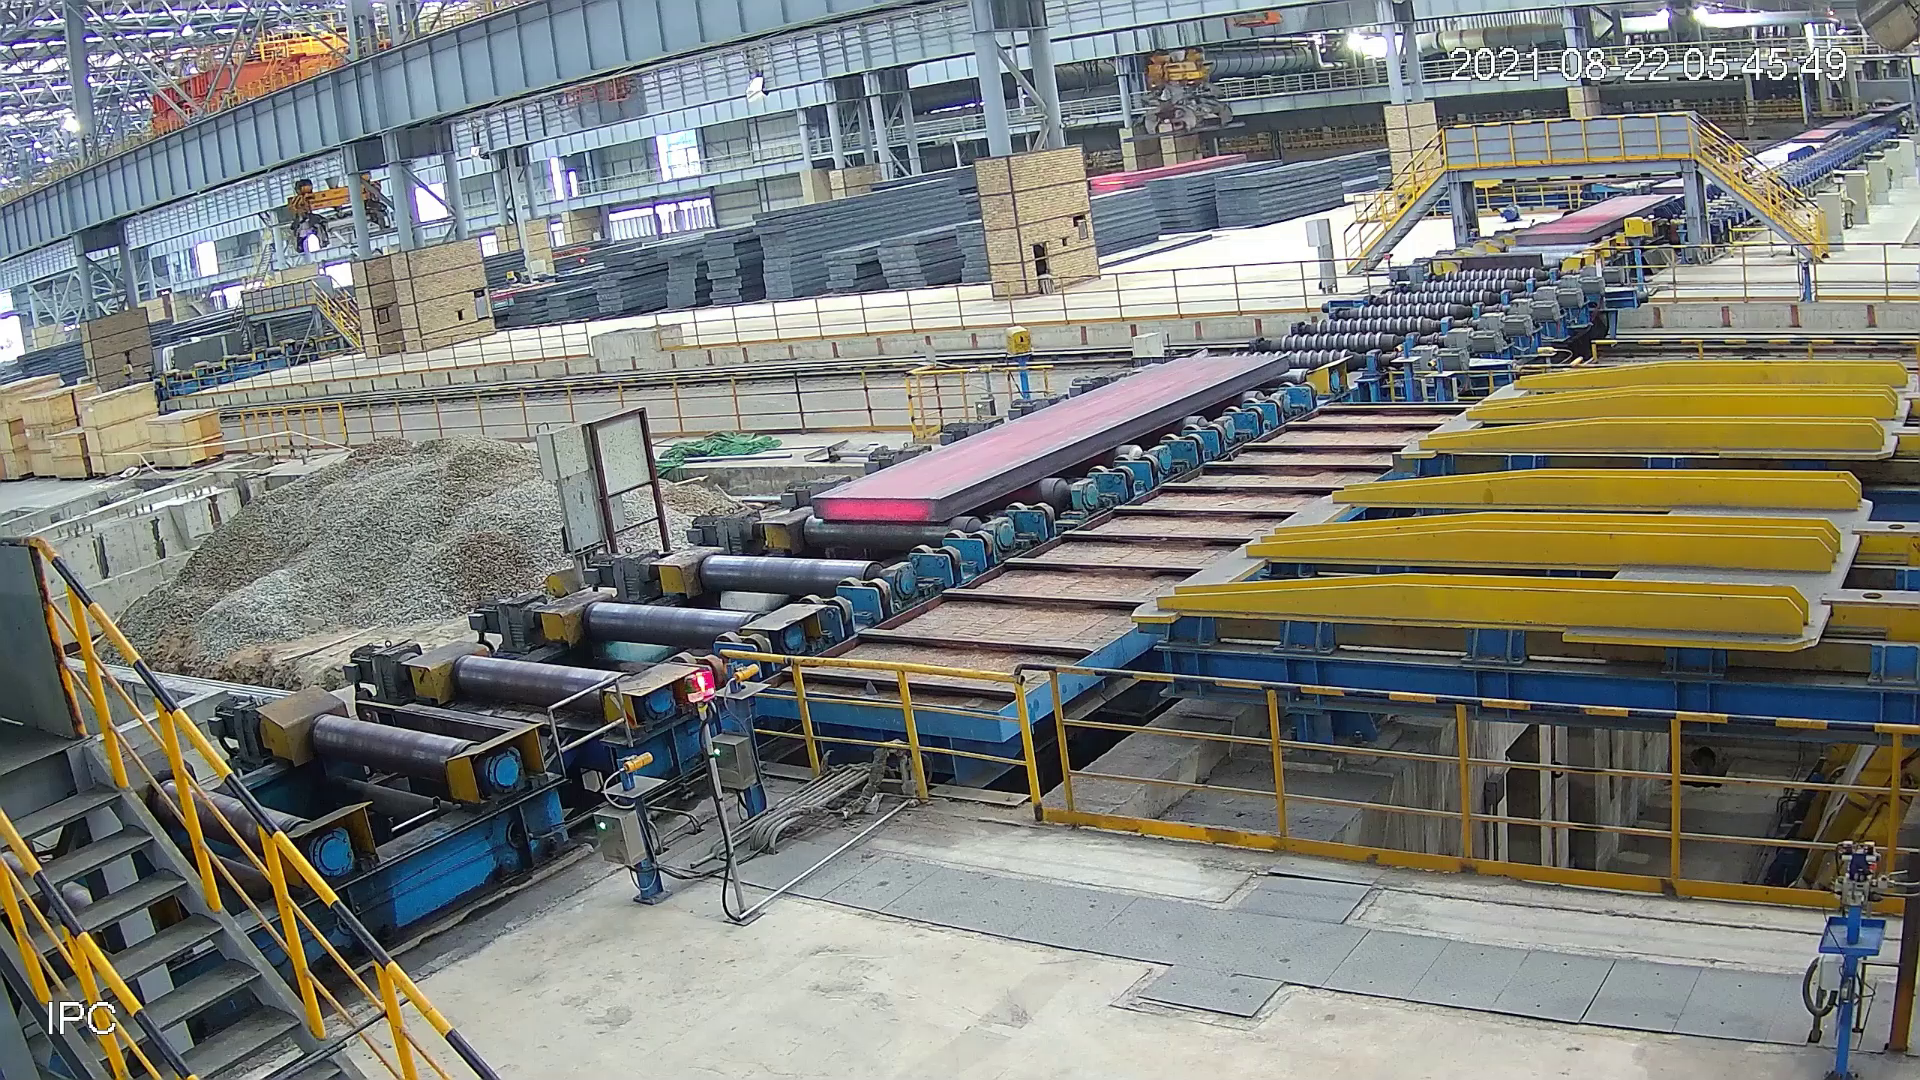slab: (795, 343, 1298, 527), (1516, 189, 1683, 247)
